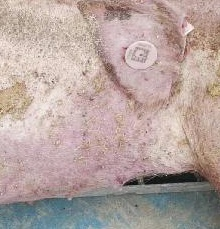text: (115, 28, 163, 78)
